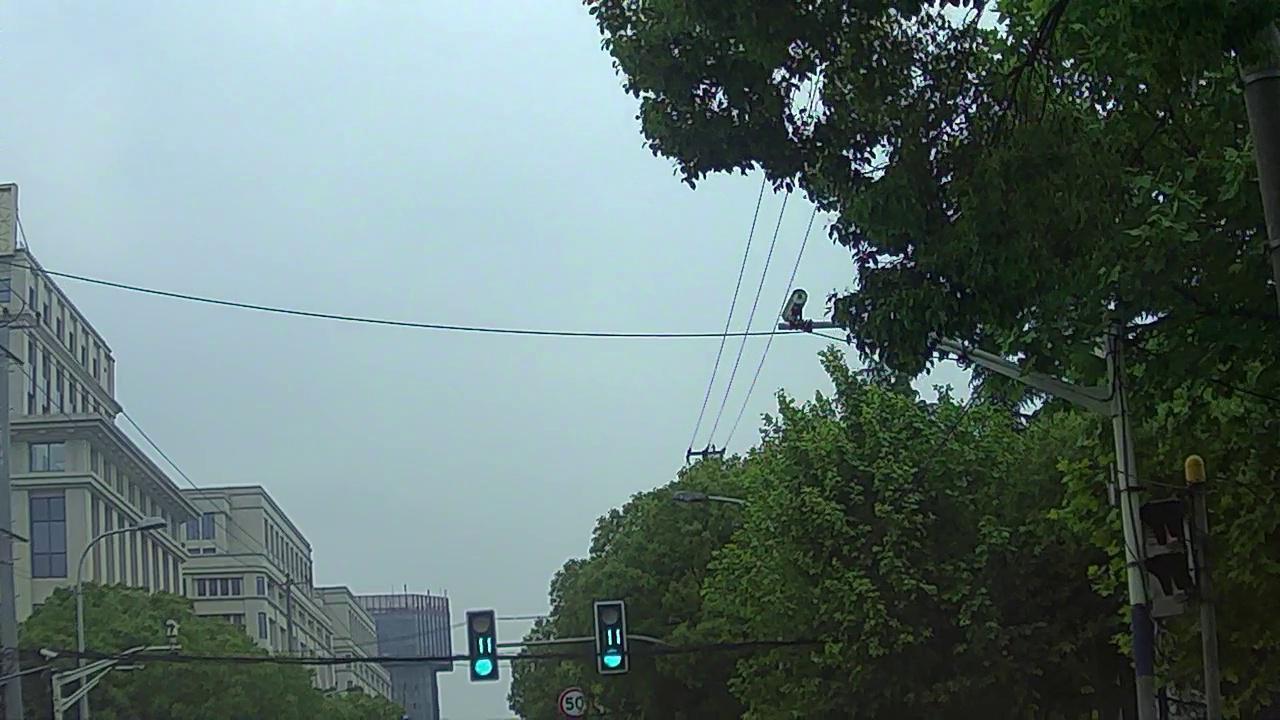traffic_light: (467, 613, 498, 681), (598, 604, 626, 670)
